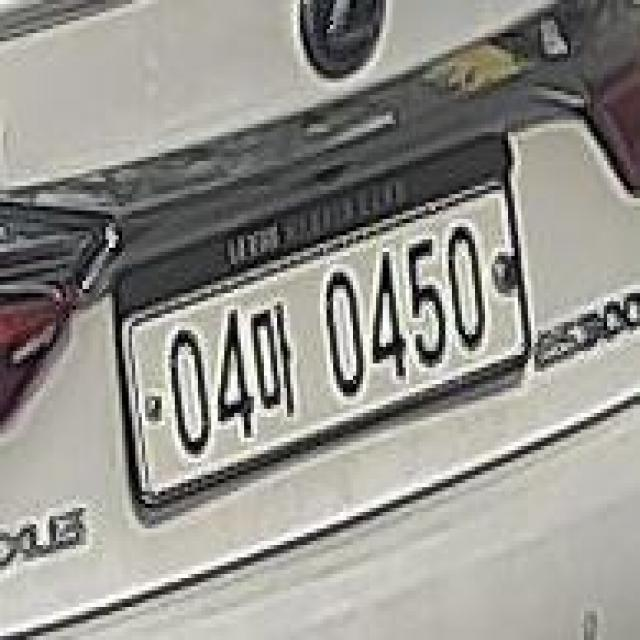illegal_plate: (115, 146, 535, 524)
